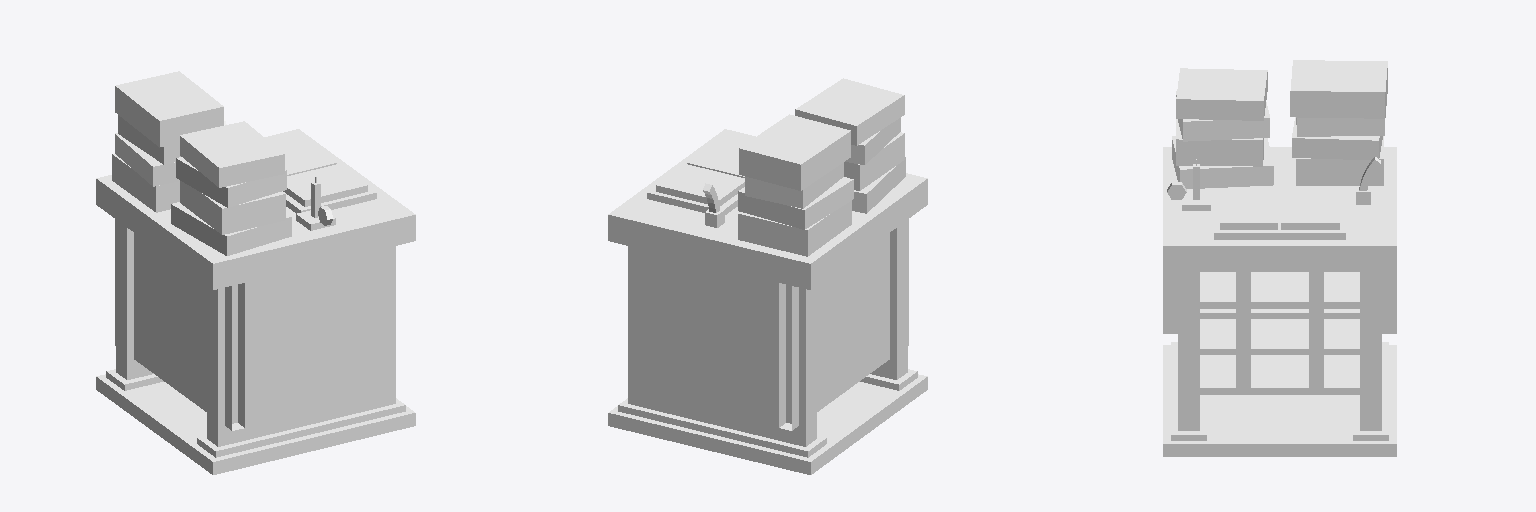
The model's file is referencase.obj.
3 views of the same model, side by side, from view 1: azimuth 30°, elevation 25°; view 2: azimuth 150°, elevation 25°; view 3: azimuth 270°, elevation 25° (orthographic).
Visible parts, largest first — view 1: legLeft, deskTopEndLeft, carpet, backLeft, rbook4, lbook4, backRight, bookOpen, legRight, deskTopRight, lbook2, lbook1 (+5 smaller); view 2: legRight, deskTopRight, carpet, backRight, rbook4, lbook4, bookOpen, legLeft, shelfSingle, deskTopEndLeft, rbook1, rbook2 (+6 smaller); view 3: carpet, shelfRight, shelfLeft, deskTopRight, deskTopEndLeft, bookOpen, rbook4, legRight, legLeft, lbook4, lbook2, lbook1 (+9 smaller).
Part boxes in pixels (x1,y1,x2,y2): legLeft: (197,246,405,457); deskTopEndLeft: (155,172,415,289); carpet: (96,374,415,474); backLeft: (134,233,244,430); rbook4: (115,71,223,147); lbook4: (180,121,284,187); backRight: (115,219,206,411); bookOpen: (279,141,376,213); legRight: (106,220,163,390); deskTopRight: (96,129,356,247); lbook2: (180,181,285,234); lbook1: (171,202,291,255); legRight: (618,246,826,457); deskTopRight: (608,172,868,289); carpet: (608,374,927,474); backRight: (779,281,889,430); rbook4: (739,114,850,190); lbook4: (795,78,904,145); bookOpen: (647,141,744,214); legLeft: (860,220,917,390); shelfSingle: (817,233,889,332); deskTopEndLeft: (667,129,927,247); rbook1: (738,201,851,256); rbook2: (738,177,853,229); carpet: (1163,345,1396,456); shelfRight: (1236,272,1359,394); shelfLeft: (1200,272,1323,394); deskTopRight: (1280,147,1396,271); deskTopEndLeft: (1163,147,1279,271); bookOpen: (1214,192,1345,239); rbook4: (1290,60,1387,118); legRight: (1353,272,1388,440); legLeft: (1171,272,1206,440); lbook4: (1176,68,1267,120); lbook2: (1176,119,1263,166); lbook1: (1172,136,1273,188).
Size of the model in its own units: 1 by 1.43 by 1.